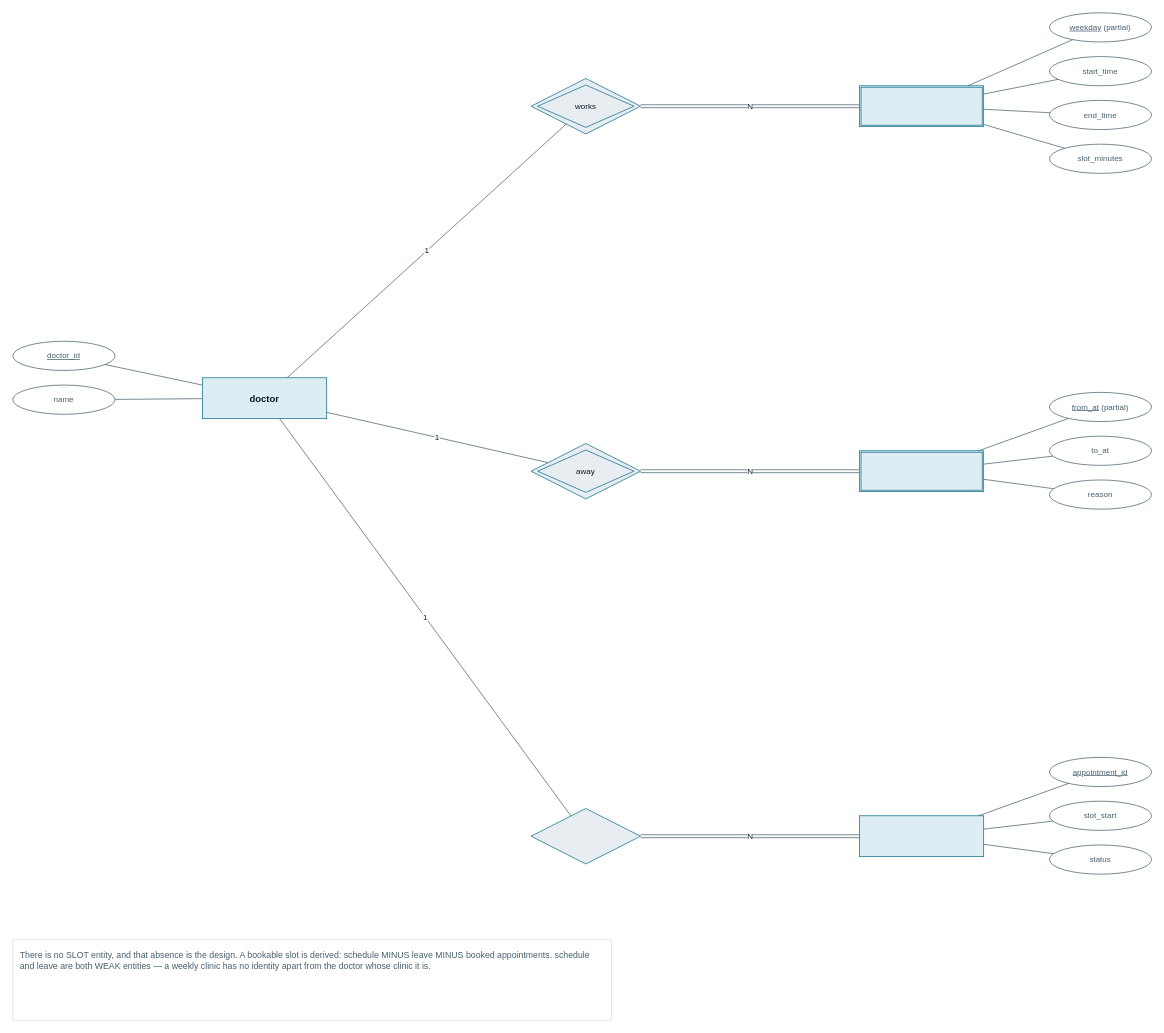
Image size: 1164x1033. Some labels were removed from this diagram. Here are the shapes that lost their labels. From the top down, the centre of each, then its label:
At [921,106]: "schedule".
At [921,471]: "leave".
At [585,836]: "booked for".
At [921,836]: "appointment".
